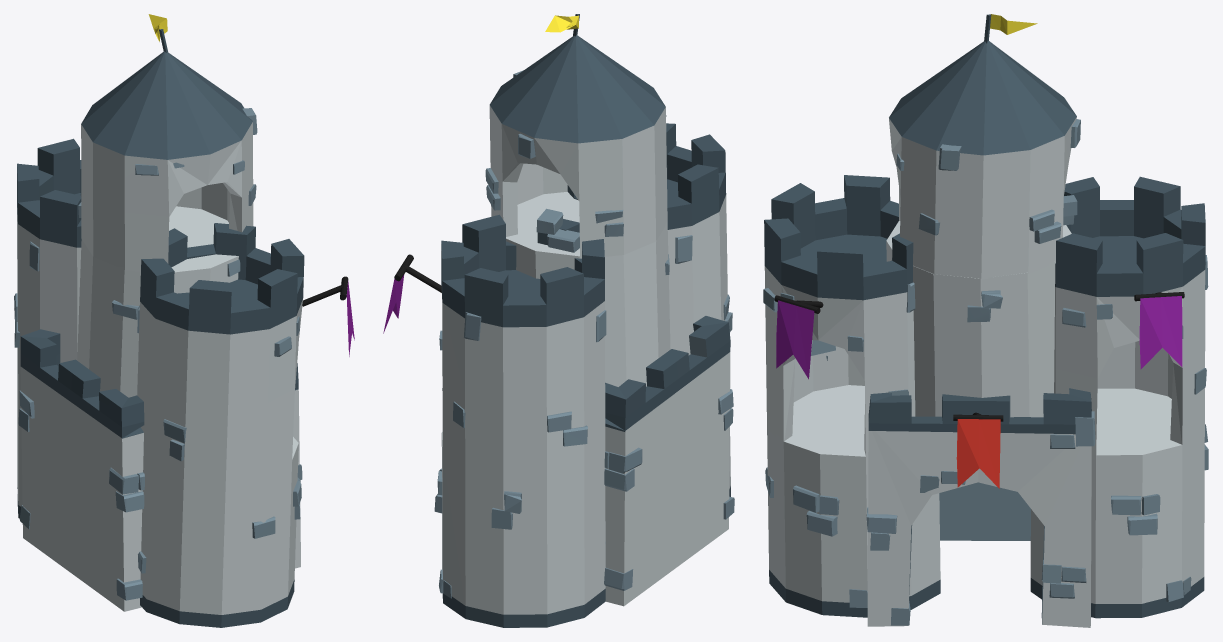
The model's file is tower_lvl3alt.fbx.
The picture shows the model from 3 angles, left to right: view 1: azimuth 30°, elevation 25°; view 2: azimuth 150°, elevation 25°; view 3: azimuth 270°, elevation 25°; orthographic projection. The views are drawn at different scales.
Visible parts, largest first — view 1: group267566094; view 2: group267566094; view 3: group267566094.
Part boxes in pixels (x1,y1,x2,y2): group267566094: (14,14,354,627); group267566094: (383,14,734,627); group267566094: (763,14,1208,627).
Bounding box in the file's own units: 87.06 × 197 × 139.
